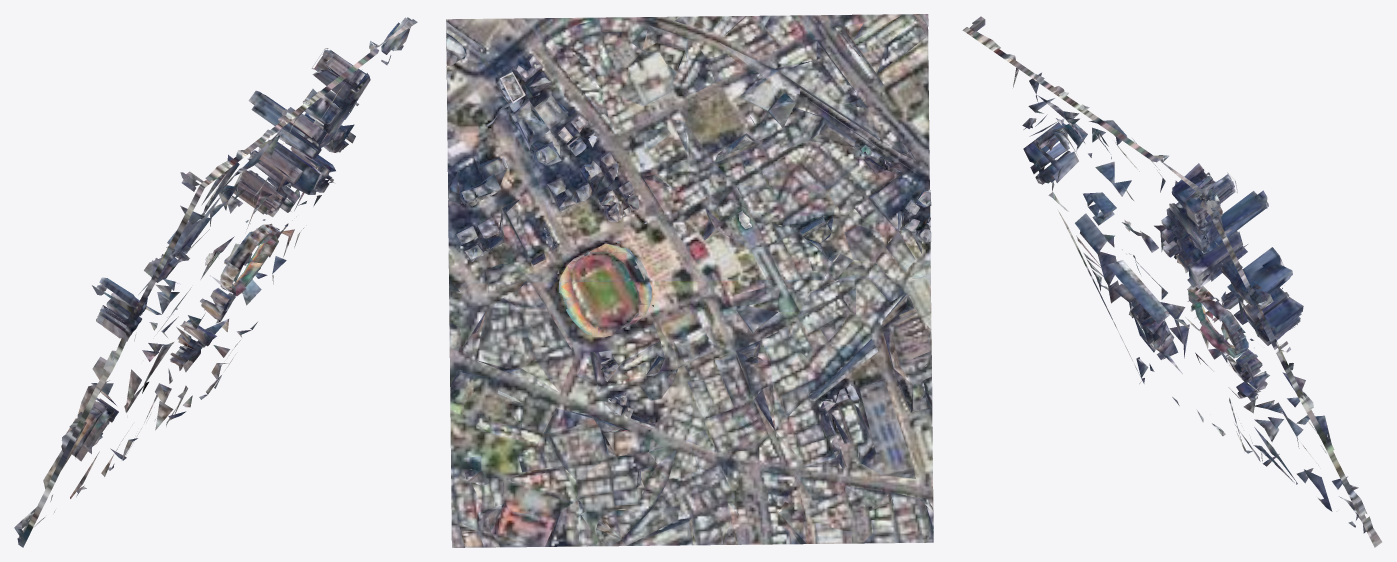
3 renders of one model, left to right at view 1: azimuth 30°, elevation 25°; view 2: azimuth 150°, elevation 25°; view 3: azimuth 270°, elevation 25°, orthographic. The views are drawn at different scales.
Size of the model in its own units: 1229 by 1133 by 1041.
1 material, 1 textured.
